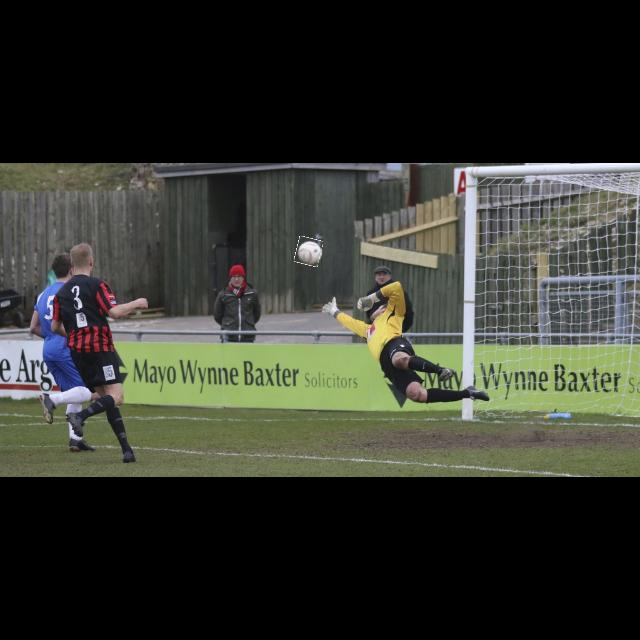Football: (296, 238, 322, 266)
